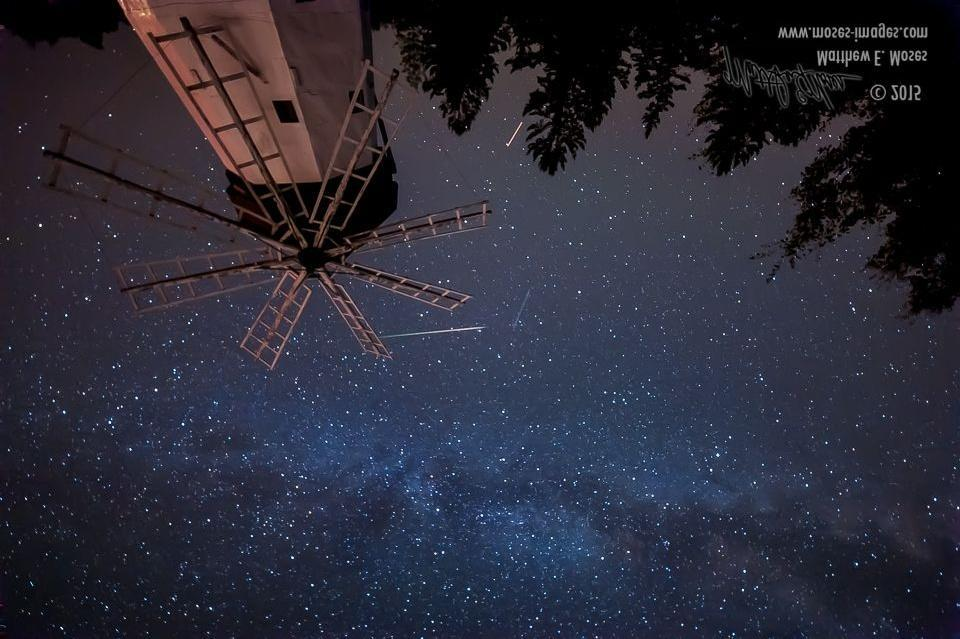meteorite: (373, 322, 491, 340), (510, 282, 535, 346), (497, 118, 531, 147)
